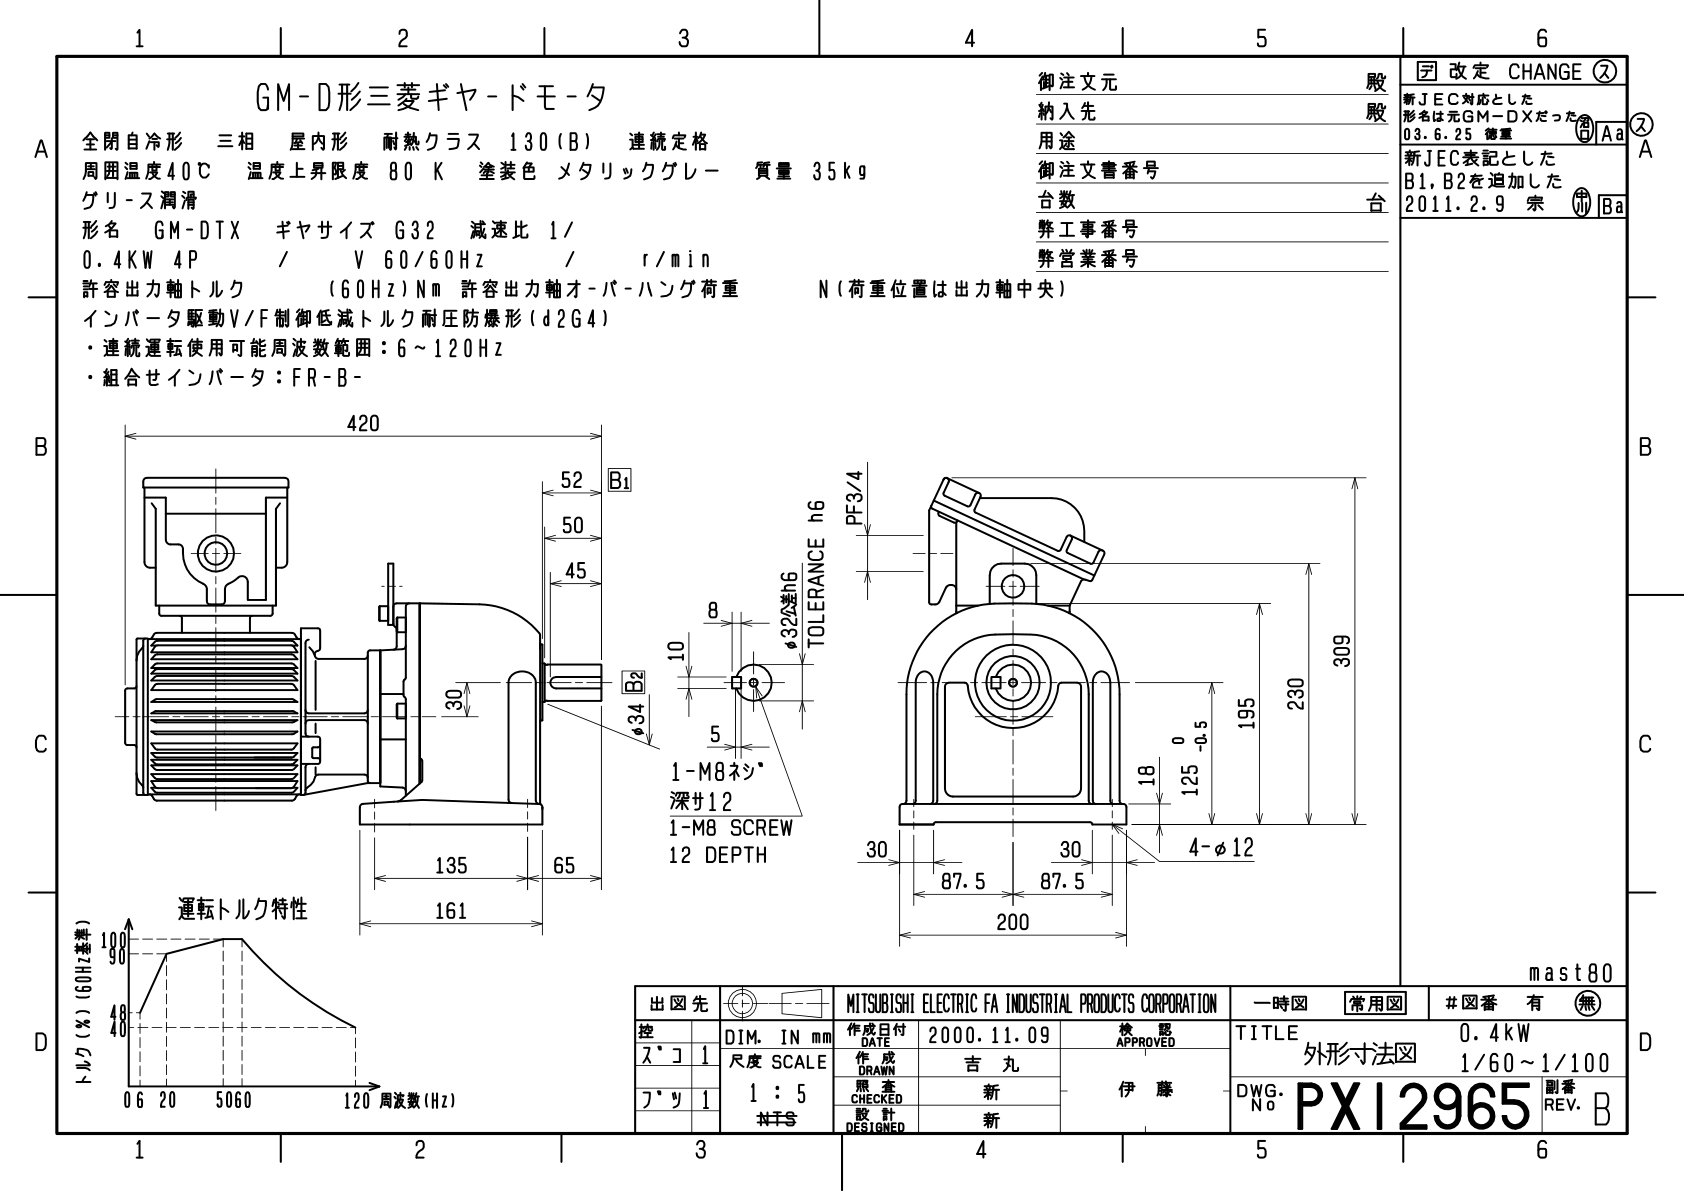GM_D_制御屋内_三相_脚: (12, 1, 1657, 1167)
